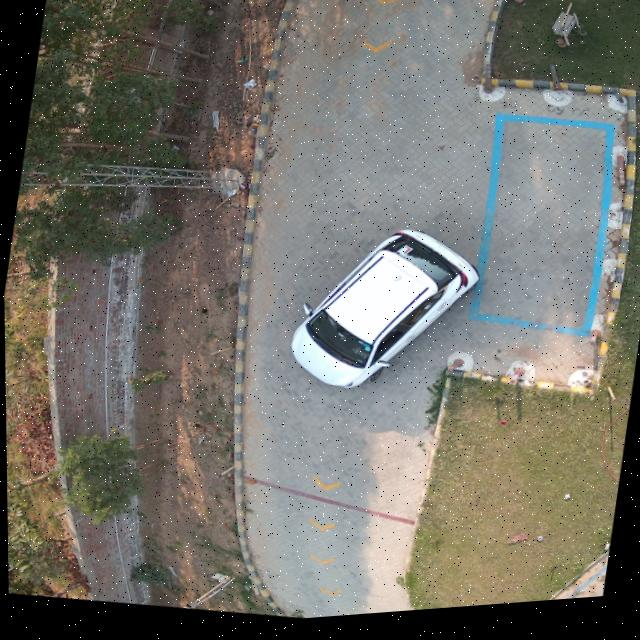car: (290, 235, 478, 393)
